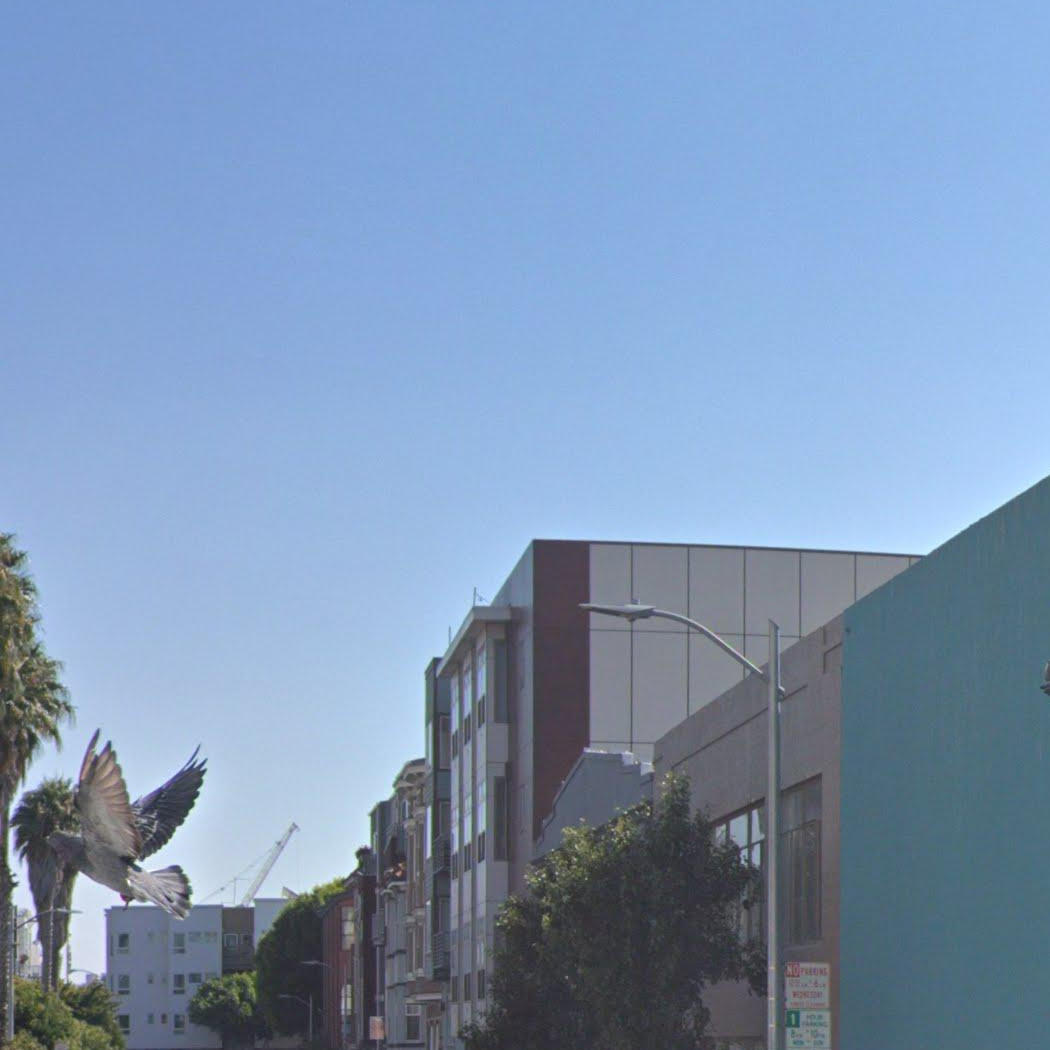1 Hour Parking: (780, 1007, 834, 1050)
No Parking: (782, 958, 833, 1011)
